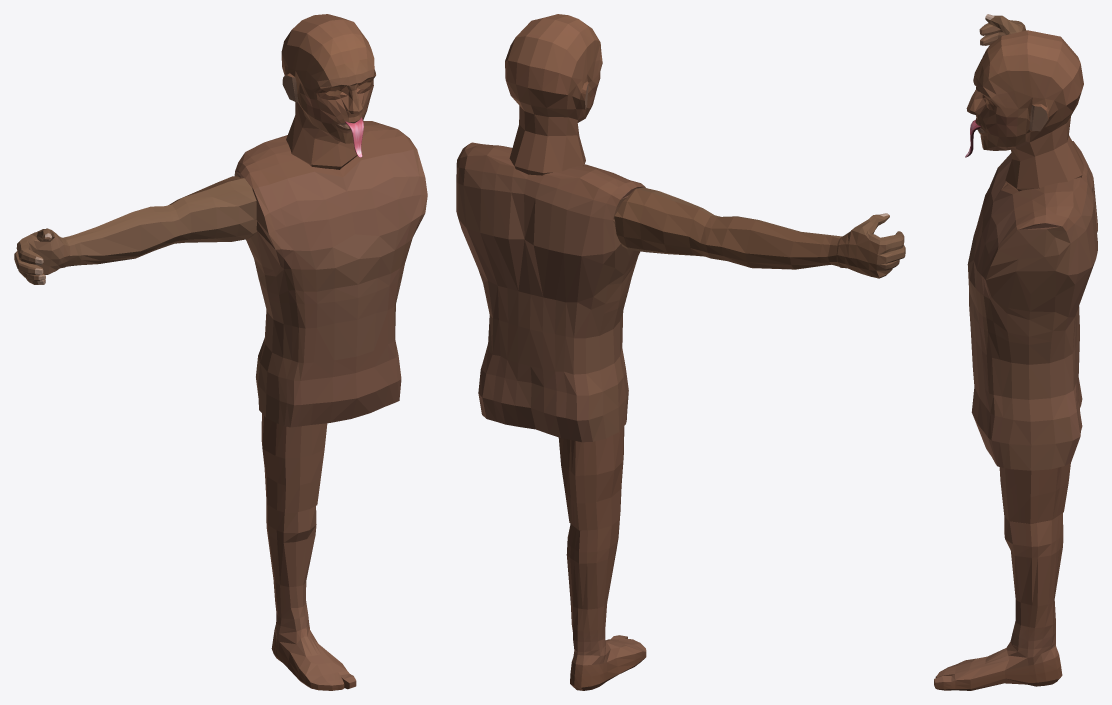
The model's file is baseSkinToneLightDarkFreaky.glb.
The picture shows the model from 3 angles, left to right: view 1: azimuth 30°, elevation 25°; view 2: azimuth 150°, elevation 25°; view 3: azimuth 270°, elevation 25°; orthographic projection. The views are drawn at different scales.
Parts seen in each view (by area): view 1: nakedTorsoSkinToneLightDark, nakedFaceSkinToneLightDark, nakedUpperLegSkinToneLightDark, nakedLowerLegSkinToneLightDark, nakedUpperArmSkinToneLightDark, nakedLowerArmSkinToneLightDark, nakedFootSkinToneLightDark, nakedHandArmSkinToneLightDark; view 2: nakedTorsoSkinToneLightDark, nakedFaceSkinToneLightDark, nakedLowerArmSkinToneLightDark, nakedUpperArmSkinToneLightDark, nakedUpperLegSkinToneLightDark, nakedLowerLegSkinToneLightDark, nakedHandArmSkinToneLightDark, nakedFootSkinToneLightDark; view 3: nakedTorsoSkinToneLightDark, nakedFaceSkinToneLightDark, nakedLowerLegSkinToneLightDark, nakedFootSkinToneLightDark, nakedUpperLegSkinToneLightDark, nakedHandArmSkinToneLightDark.
Part boxes in pixels (box(x1,y1,x2,y2)): nakedTorsoSkinToneLightDark: box(234, 120, 427, 427); nakedFaceSkinToneLightDark: box(281, 14, 375, 169); nakedUpperLegSkinToneLightDark: box(261, 414, 327, 512); nakedLowerLegSkinToneLightDark: box(266, 499, 316, 629); nakedUpperArmSkinToneLightDark: box(165, 176, 256, 245); nakedLowerArmSkinToneLightDark: box(62, 206, 174, 266); nakedFootSkinToneLightDark: box(271, 622, 356, 690); nakedHandArmSkinToneLightDark: box(14, 228, 70, 284); nakedTorsoSkinToneLightDark: box(456, 142, 645, 442); nakedFaceSkinToneLightDark: box(505, 14, 602, 175); nakedLowerArmSkinToneLightDark: box(706, 216, 841, 269); nakedUpperArmSkinToneLightDark: box(614, 187, 720, 258); nakedUpperLegSkinToneLightDark: box(558, 426, 624, 530); nakedLowerLegSkinToneLightDark: box(566, 518, 619, 652); nakedHandArmSkinToneLightDark: box(836, 213, 905, 278); nakedFootSkinToneLightDark: box(570, 635, 646, 690); nakedTorsoSkinToneLightDark: box(967, 141, 1097, 470); nakedFaceSkinToneLightDark: box(966, 30, 1084, 191); nakedLowerLegSkinToneLightDark: box(1004, 513, 1063, 649); nakedFootSkinToneLightDark: box(934, 641, 1062, 690); nakedUpperLegSkinToneLightDark: box(999, 462, 1070, 524); nakedHandArmSkinToneLightDark: box(979, 14, 1025, 52).
Bounding box in the file's own units: 1.31 × 1.94 × 0.4338.
